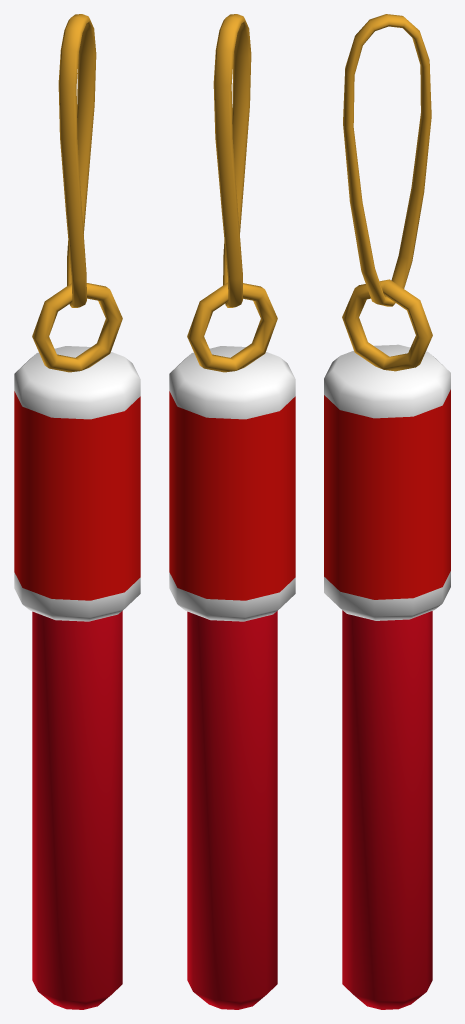
Rendered from Ball_DefaultSaber.fbx.
The picture shows the model from 3 angles, left to right: view 1: azimuth 30°, elevation 25°; view 2: azimuth 210°, elevation 25°; view 3: azimuth 330°, elevation 25°; orthographic projection.
Visible parts, largest first — view 1: Ball DefaultSaber; view 2: Ball DefaultSaber; view 3: Ball DefaultSaber.
Boxes of the visible parts, x1,y1,x2,y2 form: Ball DefaultSaber: (14, 14, 140, 1009); Ball DefaultSaber: (169, 14, 295, 1009); Ball DefaultSaber: (324, 14, 450, 1009).
Size of the model in its own units: 1.12 by 9.53 by 1.07.
